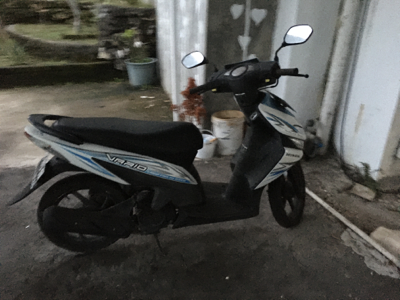moto: (19, 54, 312, 251)
